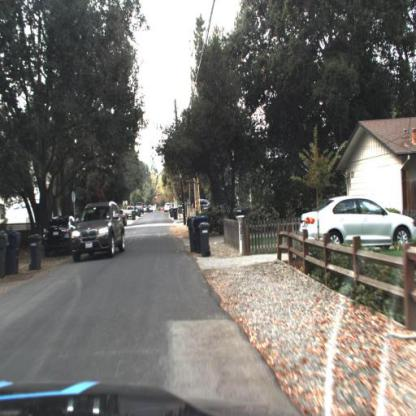car: (297, 194, 416, 255), (73, 200, 127, 264), (45, 215, 79, 254), (193, 198, 211, 213), (137, 202, 145, 219), (127, 205, 135, 219), (164, 203, 174, 213)
